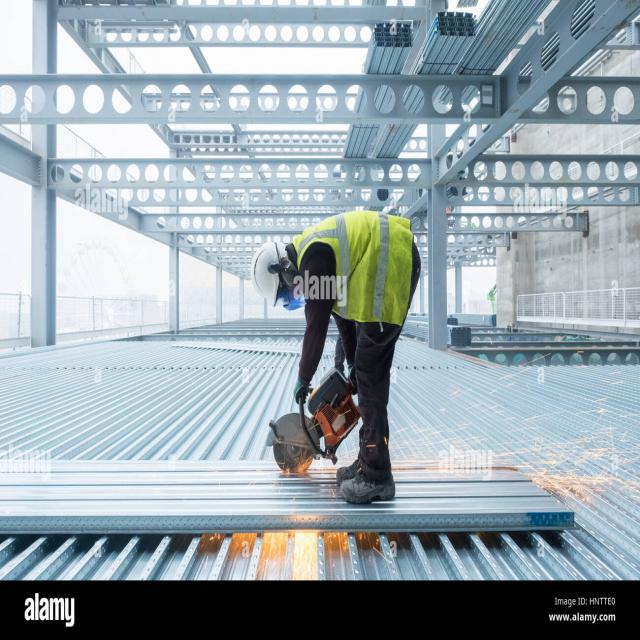Reflective-Jacket: (296, 207, 418, 326)
Safety-Helmet: (248, 231, 298, 315)
